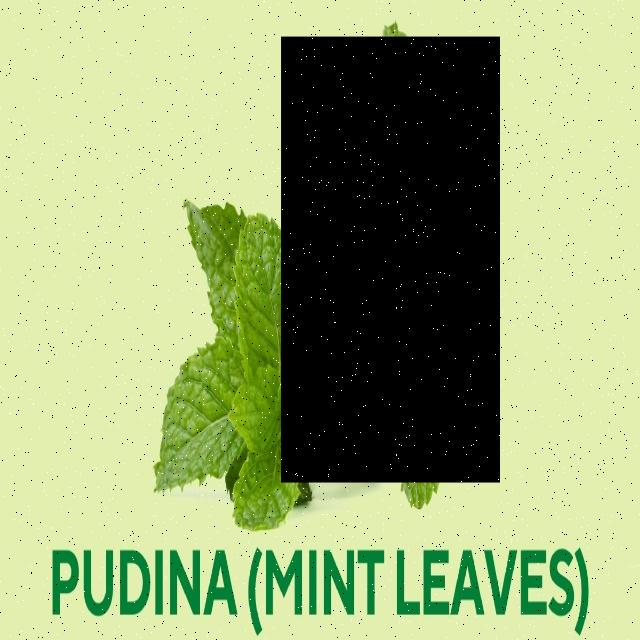Green_Mint: (282, 37, 500, 482), (126, 199, 372, 507)
